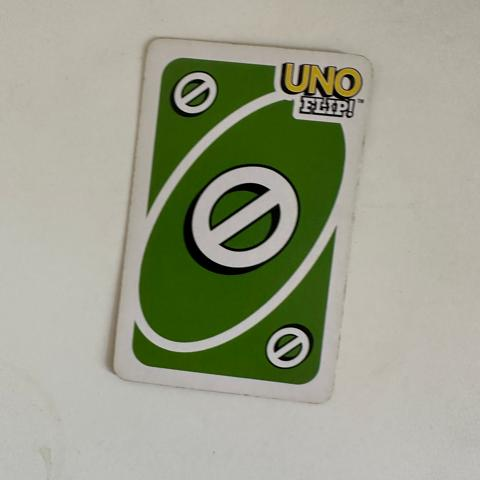lgreenskip-20: (155, 48, 224, 142)
